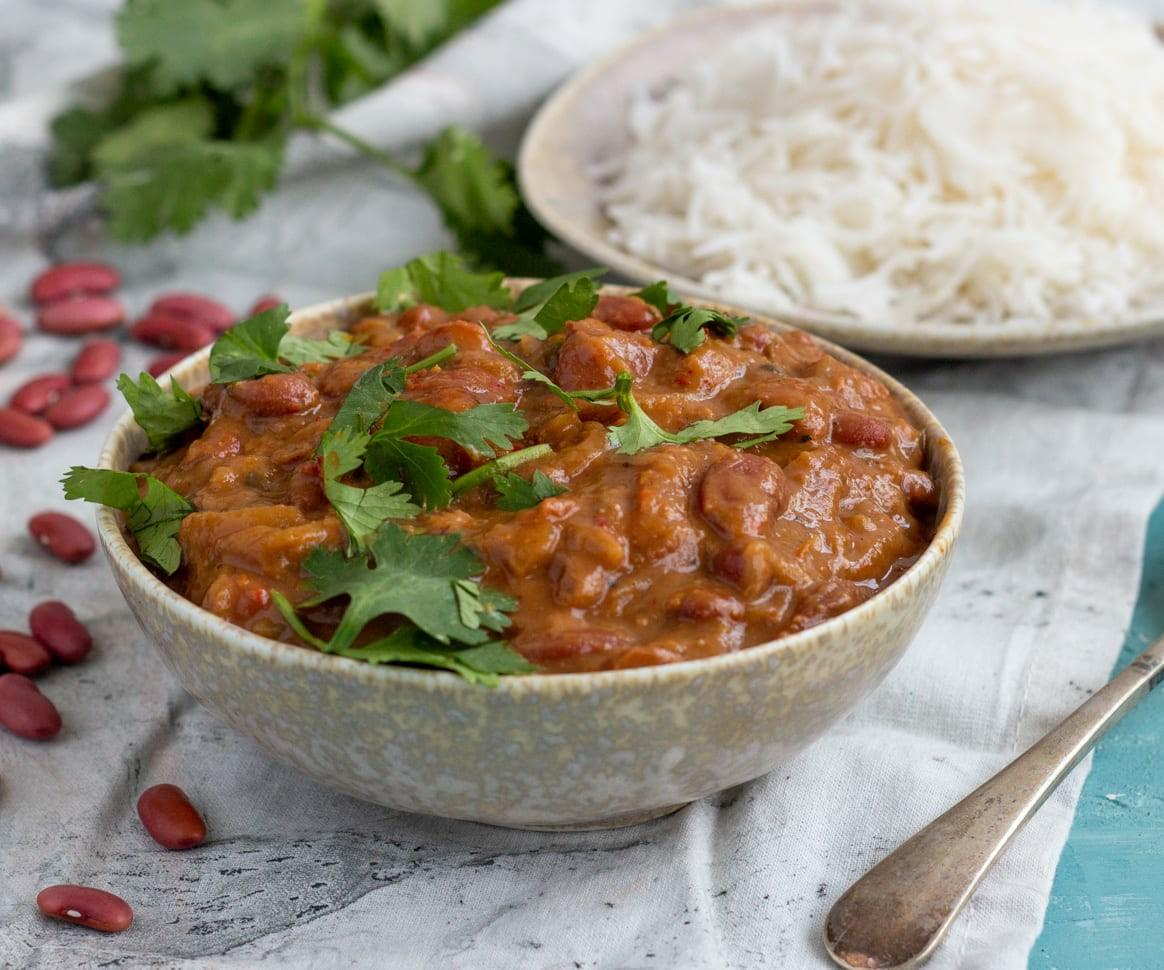RajmaCurry: (117, 273, 938, 686)
WhiteRice: (590, 0, 1164, 328)
